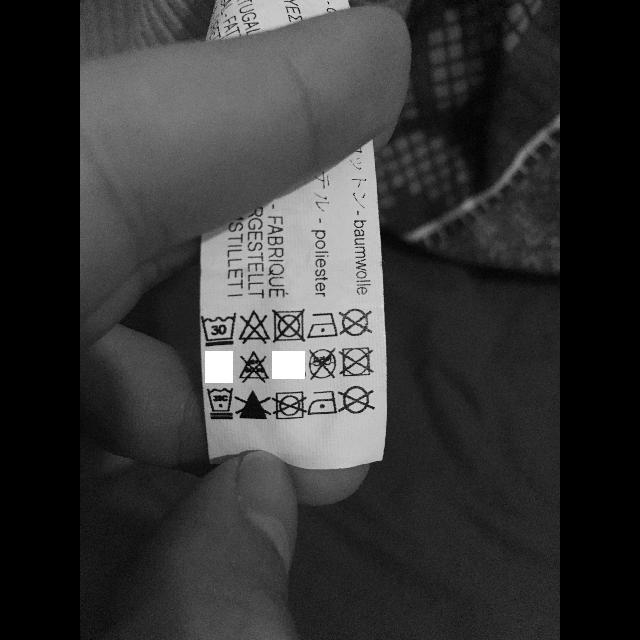30C: (198, 312, 238, 348), (205, 386, 235, 422)
DN_bleach: (236, 308, 272, 348), (233, 388, 273, 422), (238, 350, 270, 384)
DN_dry_clean: (336, 384, 376, 416), (337, 307, 373, 339), (306, 346, 338, 382)
DN_tumble_dry: (270, 306, 306, 344), (338, 345, 374, 379), (271, 390, 307, 422)
iron_low: (305, 311, 339, 341), (307, 390, 339, 416)
